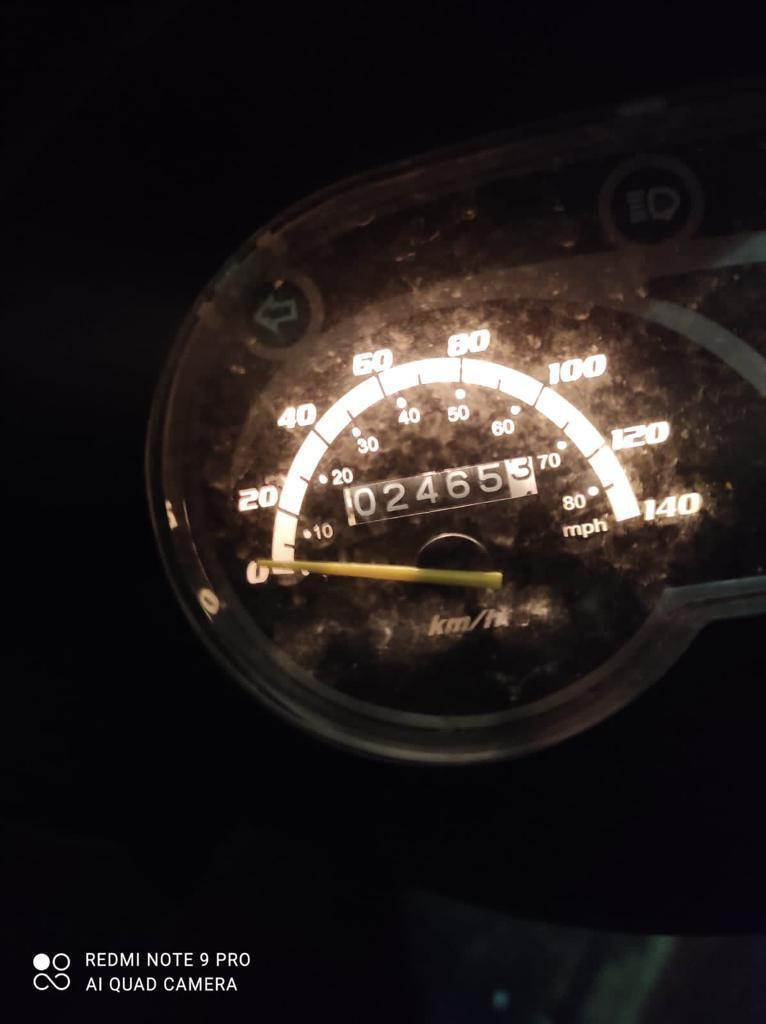0: (352, 486, 377, 519), (342, 464, 354, 484)
2: (380, 479, 409, 517), (331, 468, 342, 486)
3: (504, 454, 535, 481)
4: (414, 475, 441, 506)
5: (476, 462, 502, 493)
6: (445, 468, 472, 500)
7: (536, 454, 549, 471)
odometer: (331, 454, 551, 533)
